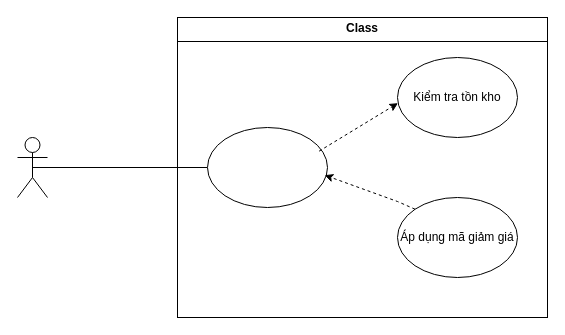
Some shapes in this 565 by 335 pixel diagram are drawn without their labels. The shapes that lost their labels are listed below. From the top down, each one's box as (x1, y1, x2, y2) in pixels, then its label:
(16, 136, 48, 198): Actor
(206, 126, 328, 208): Đặt hàng
